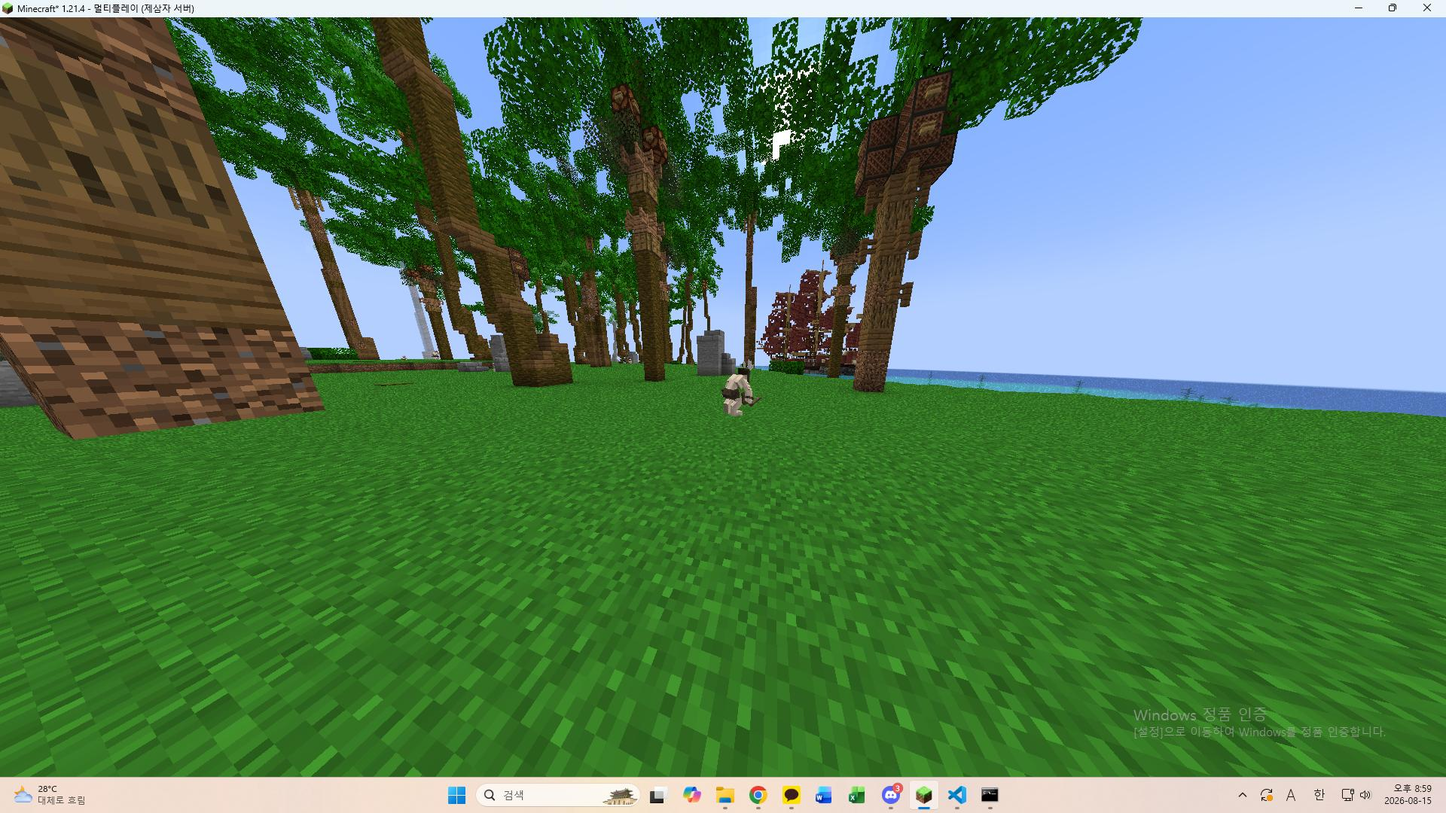bow_indian: (711, 359, 784, 428)
